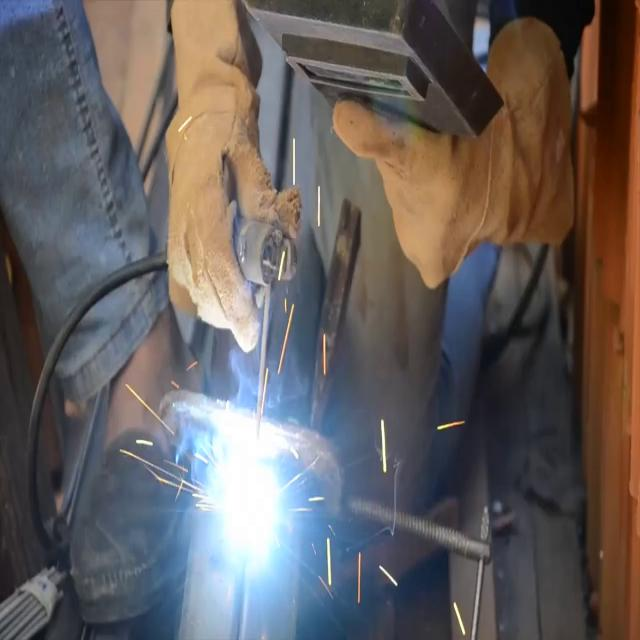gloved: (331, 15, 575, 291), (163, 0, 303, 354)
